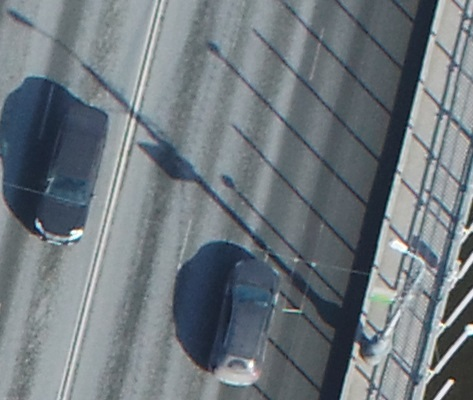opora: (311, 237, 429, 368)
